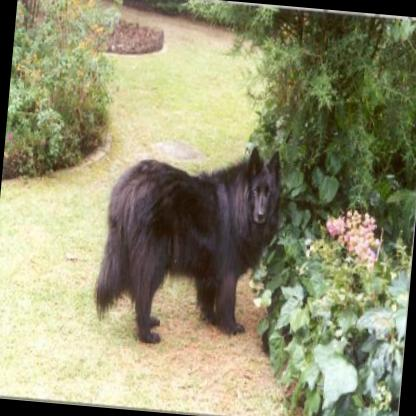groenendael: (88, 132, 285, 354)
